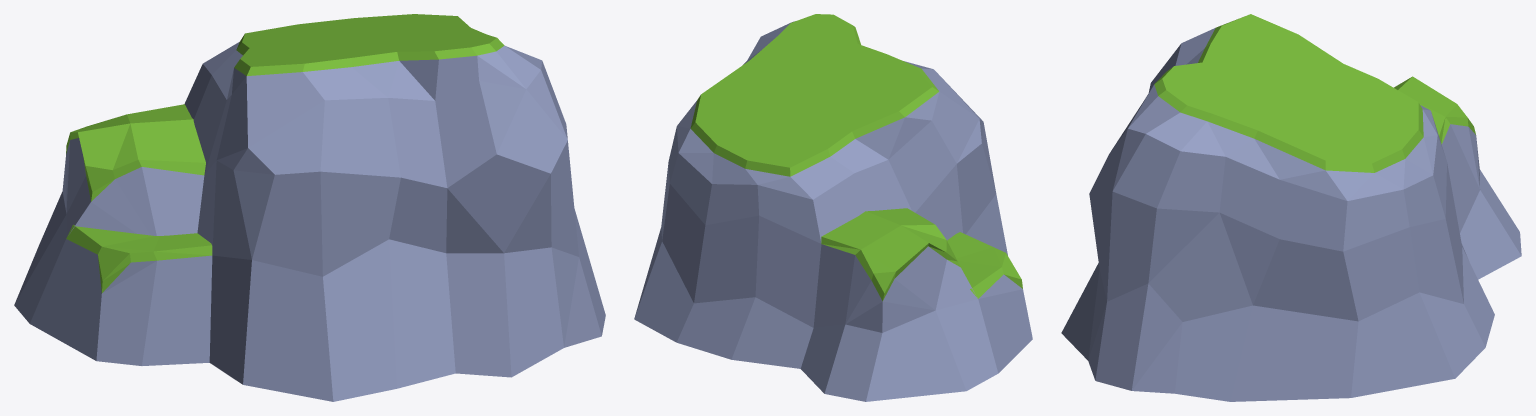
Rendered from Rock_19.fbx.
3 views of the same model, side by side, from view 1: azimuth 30°, elevation 25°; view 2: azimuth 150°, elevation 25°; view 3: azimuth 270°, elevation 25° (orthographic). The views are drawn at different scales.
Visible parts, largest first — view 1: Rock_19; view 2: Rock_19; view 3: Rock_19.
Part boxes in pixels (x1,y1,x2,y2): Rock_19: (14,14,605,401); Rock_19: (634,14,1032,401); Rock_19: (1061,14,1521,401).
Bounding box in the file's own units: 5.67 × 3.44 × 5.43.
